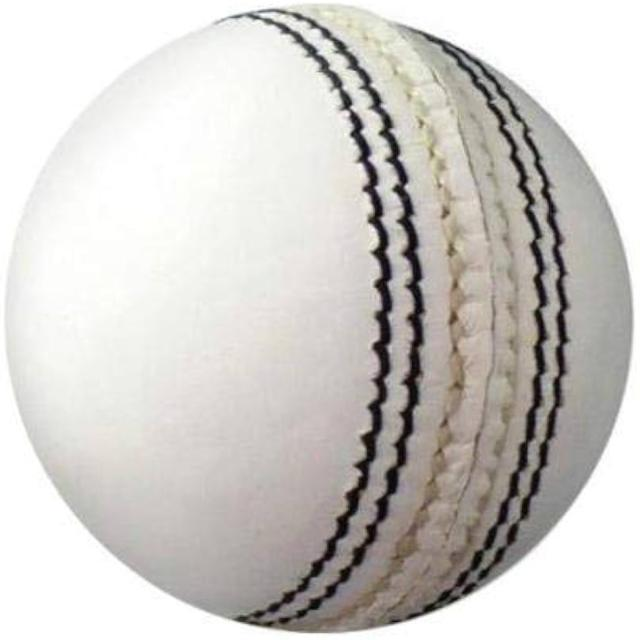cricket ball: (3, 2, 633, 636)
